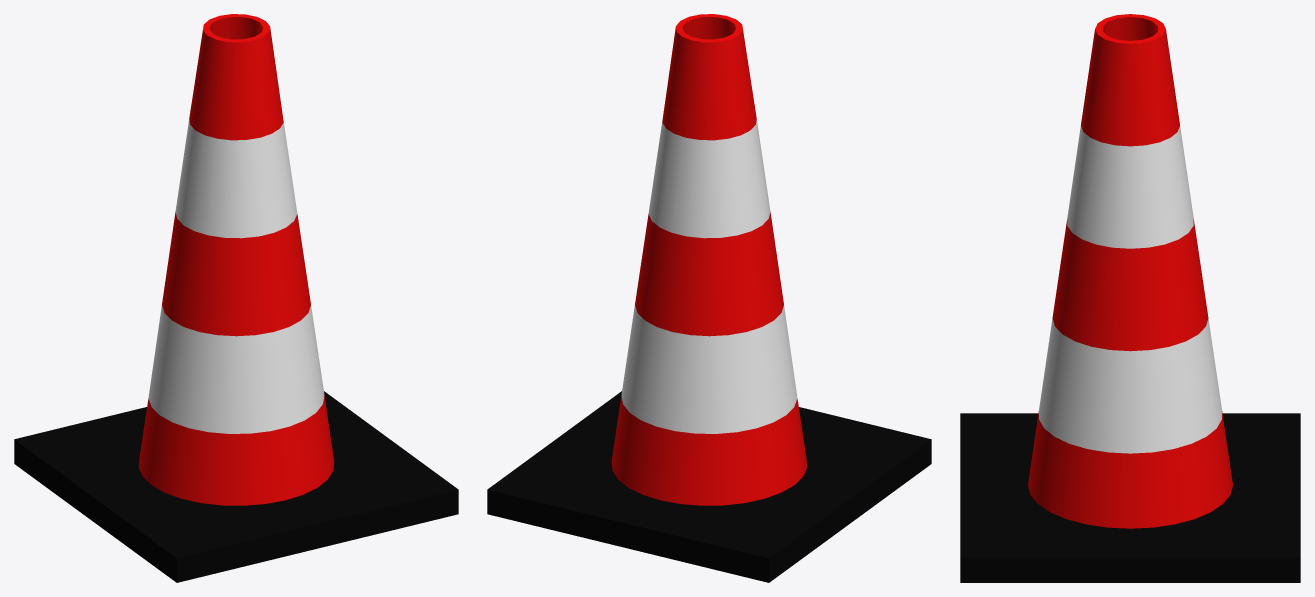
Rendered from Traffic_Cone_75cm.dae.
The picture shows the model from 3 angles, left to right: view 1: azimuth 30°, elevation 25°; view 2: azimuth 150°, elevation 25°; view 3: azimuth 270°, elevation 25°; orthographic projection. The views are drawn at different scales.
Parts seen in each view (by area): view 1: SplitFBXASC032Line1; view 2: SplitFBXASC032Line1; view 3: SplitFBXASC032Line1.
Part boxes in pixels (<box>): SplitFBXASC032Line1: <box>14,14,458,582</box>; SplitFBXASC032Line1: <box>487,14,931,582</box>; SplitFBXASC032Line1: <box>960,14,1300,582</box>.
Size of the model in its own units: 18.9 by 29.53 by 18.9.
